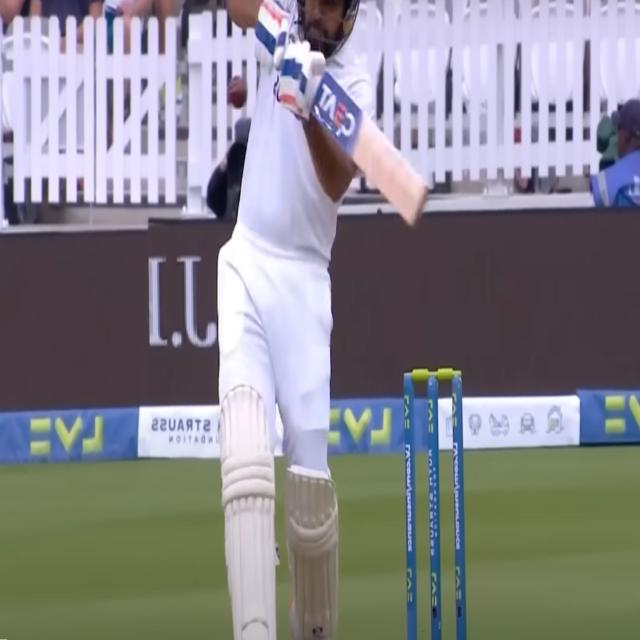ball: (226, 66, 248, 115)
